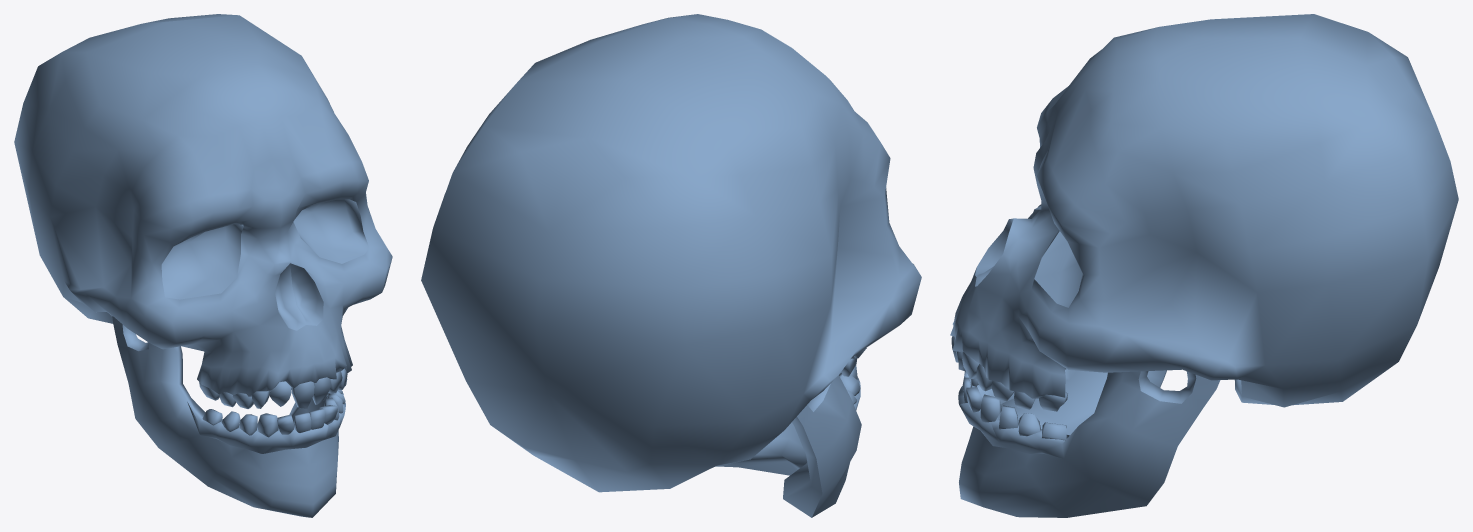
The model's file is skull_high_mesh.FBX.
3 views of the same model, side by side, from view 1: azimuth 30°, elevation 25°; view 2: azimuth 150°, elevation 25°; view 3: azimuth 270°, elevation 25° (orthographic). The views are drawn at different scales.
Visible parts, largest first — view 1: Skull_head_high, Skull_jaw_high; view 2: Skull_head_high, Skull_jaw_high; view 3: Skull_head_high, Skull_jaw_high.
Boxes of the visible parts, left/top/right/bottom form: Skull_head_high: left=14, top=14, right=392, bottom=408; Skull_jaw_high: left=112, top=316, right=345, bottom=517; Skull_head_high: left=421, top=14, right=921, bottom=492; Skull_jaw_high: left=717, top=365, right=861, bottom=517; Skull_head_high: left=950, top=14, right=1458, bottom=411; Skull_jaw_high: left=958, top=368, right=1220, bottom=517.
Size of the model in its own units: 102 by 142 by 139.
